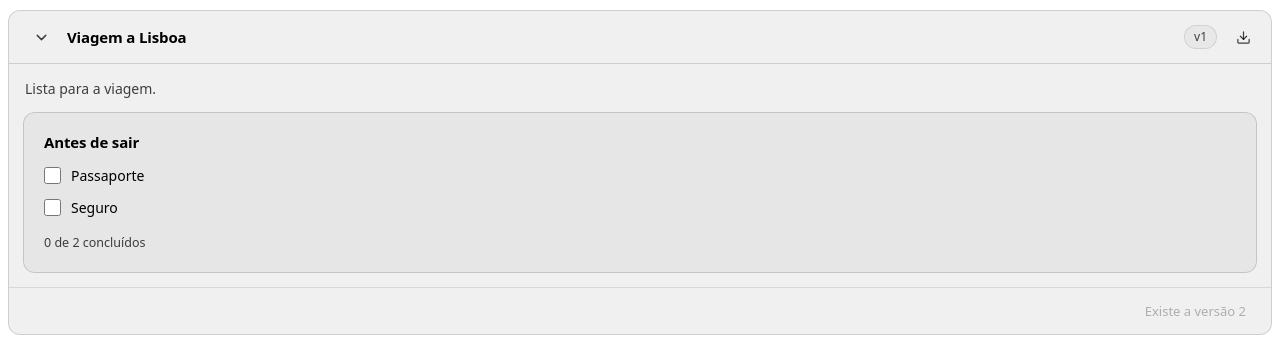
Test case: InlineCanvas › keeps the version the person saved when the backend announces it back
Expected: the heading "Viagem a Lisboa" is shown, x1=67 y1=27 x2=186 y2=47
Click the checkbox labelled "Passaporte" at (52, 176), box x1=44 y1=167 x2=61 y2=184
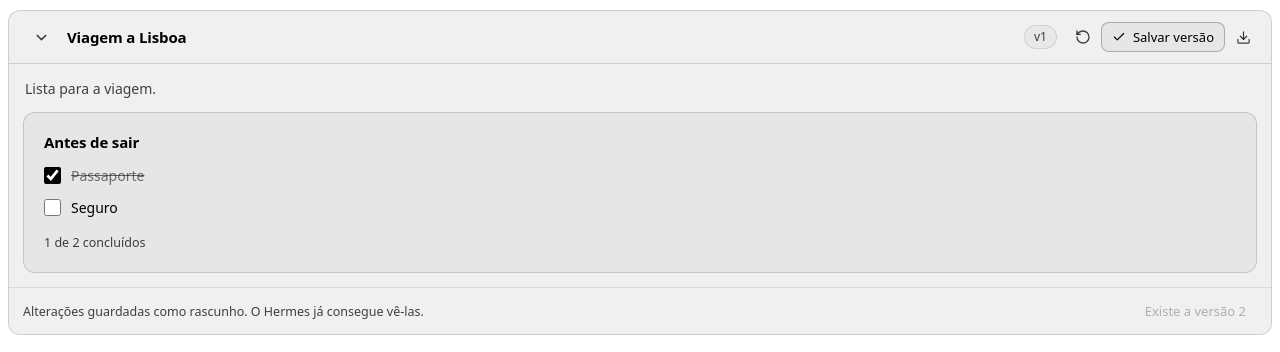
Click the button "Salvar versão" at (1163, 37), box x1=1101 y1=22 x2=1225 y2=52
Wait 50 ms
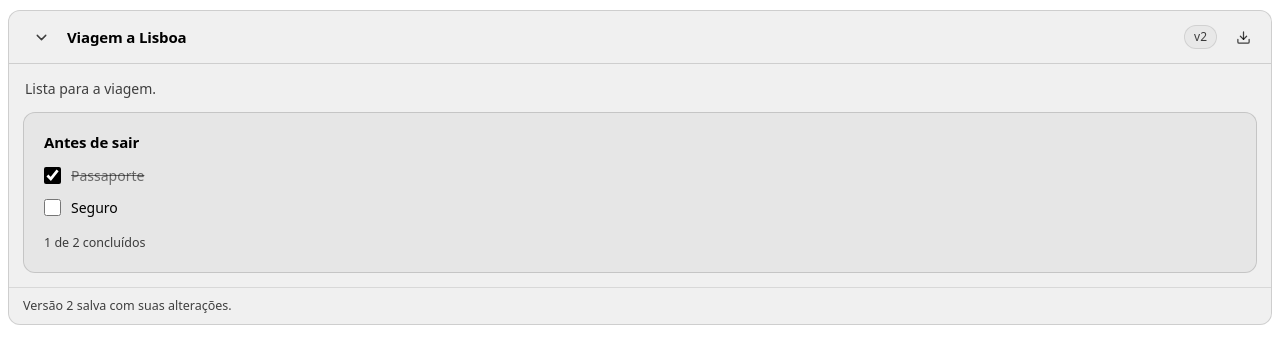
Expected: the checkbox labelled "Passaporte" is checked, x1=44 y1=167 x2=61 y2=184
Expected: the text "Versão 2 salva com suas alterações." is shown, x1=23 y1=296 x2=232 y2=316
Expected: the text "v2" is shown, x1=1184 y1=25 x2=1217 y2=49
